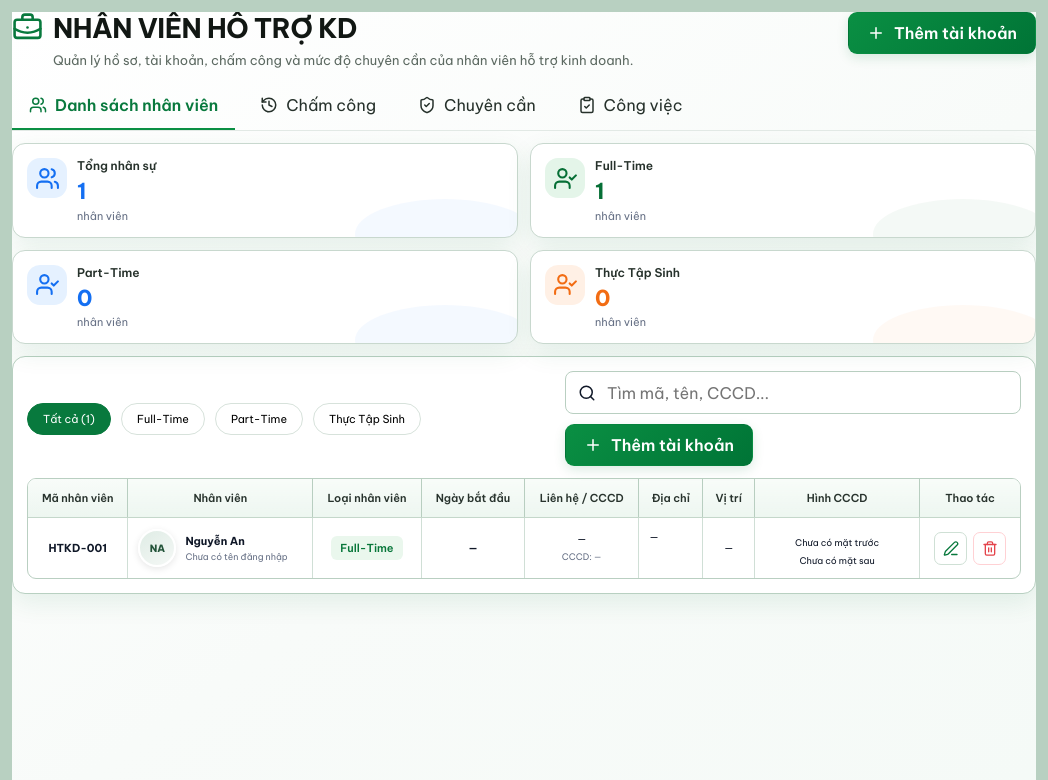
Test case: role management permissions and form › shows Business Support attendance locations only as safe Google Maps buttons
Click the button "Chấm công". click: [318, 106]
box: [243,82,393,130]
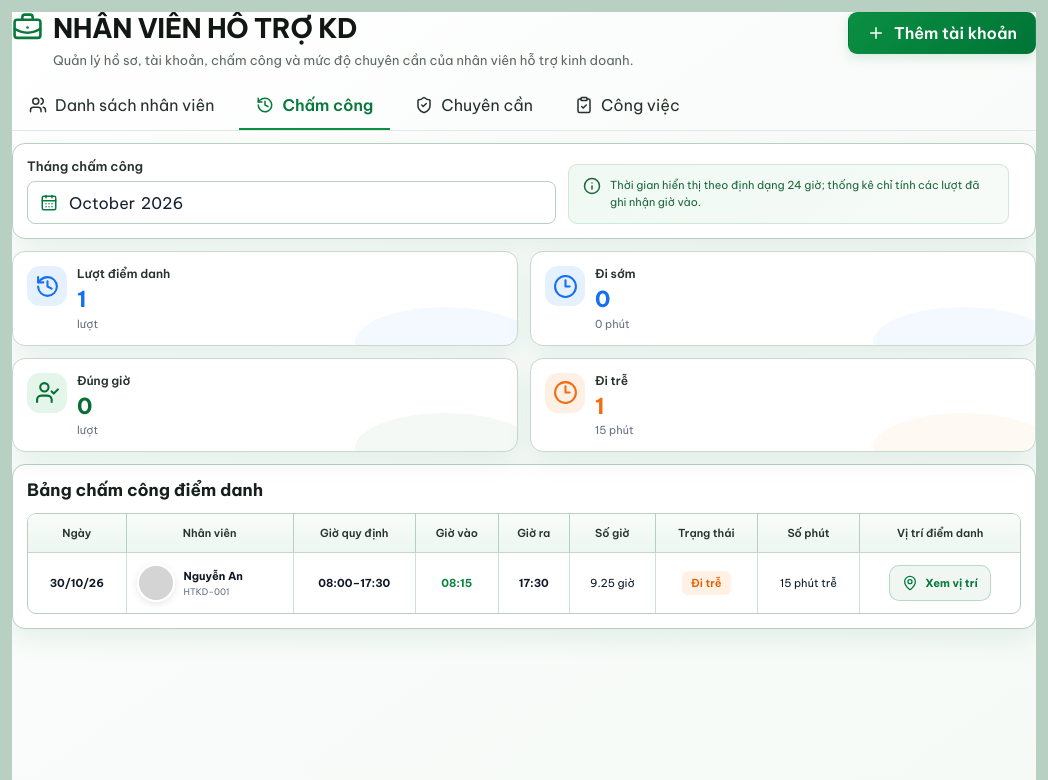
Check: the link with aria-label "Xem vị trí điểm danh của Nguyễn An trên Google Maps" reads "Xem vị trí", box [889,565,991,601]
